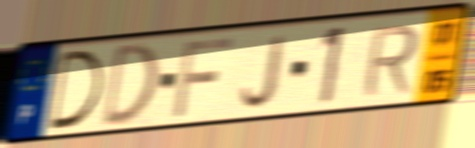1: (316, 23, 349, 109)
D: (98, 39, 161, 131), (47, 47, 107, 133)
F: (170, 34, 236, 120)
J: (239, 32, 291, 111)
R: (359, 22, 422, 100)
